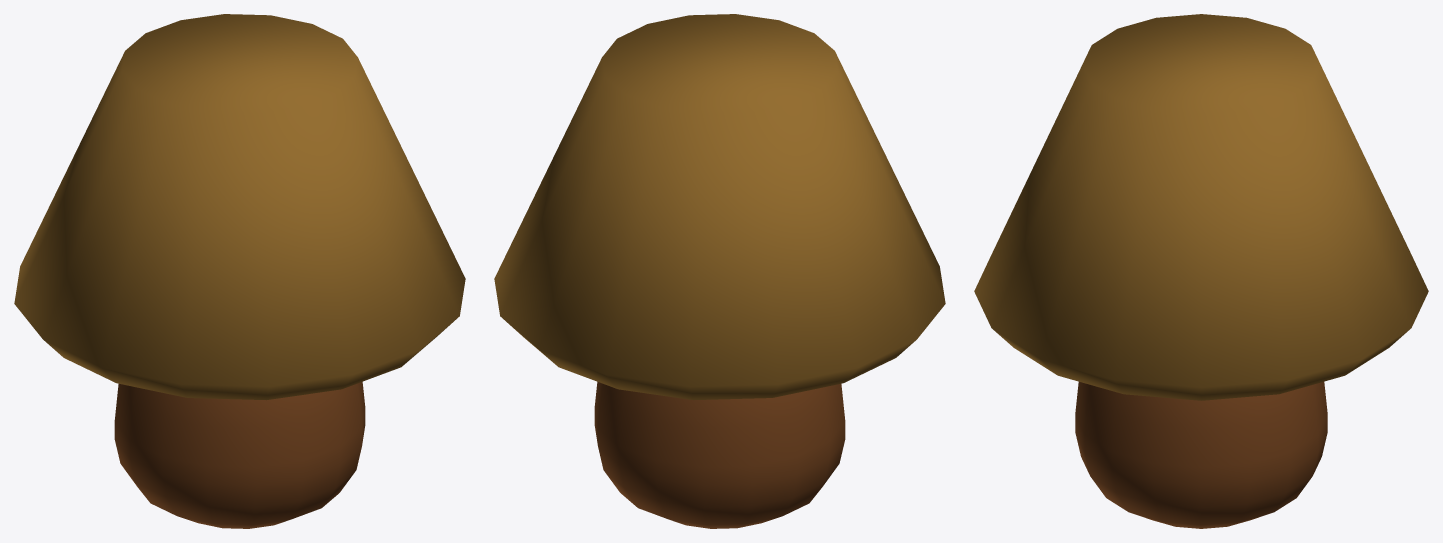
File: Lamp4.fbx
3 views of the same model, side by side, from view 1: azimuth 30°, elevation 25°; view 2: azimuth 150°, elevation 25°; view 3: azimuth 270°, elevation 25° (orthographic).
Parts seen in each view (by area): view 1: Prop_HomeLamp_03; view 2: Prop_HomeLamp_03; view 3: Prop_HomeLamp_03.
Part boxes in pixels (bbox=[...]): Prop_HomeLamp_03: bbox=[14, 14, 465, 528]; Prop_HomeLamp_03: bbox=[494, 14, 945, 528]; Prop_HomeLamp_03: bbox=[974, 14, 1428, 528].
Bounding box in the file's own units: 43.76 × 47 × 43.76.
Materials: 1 (1 with a texture image).
